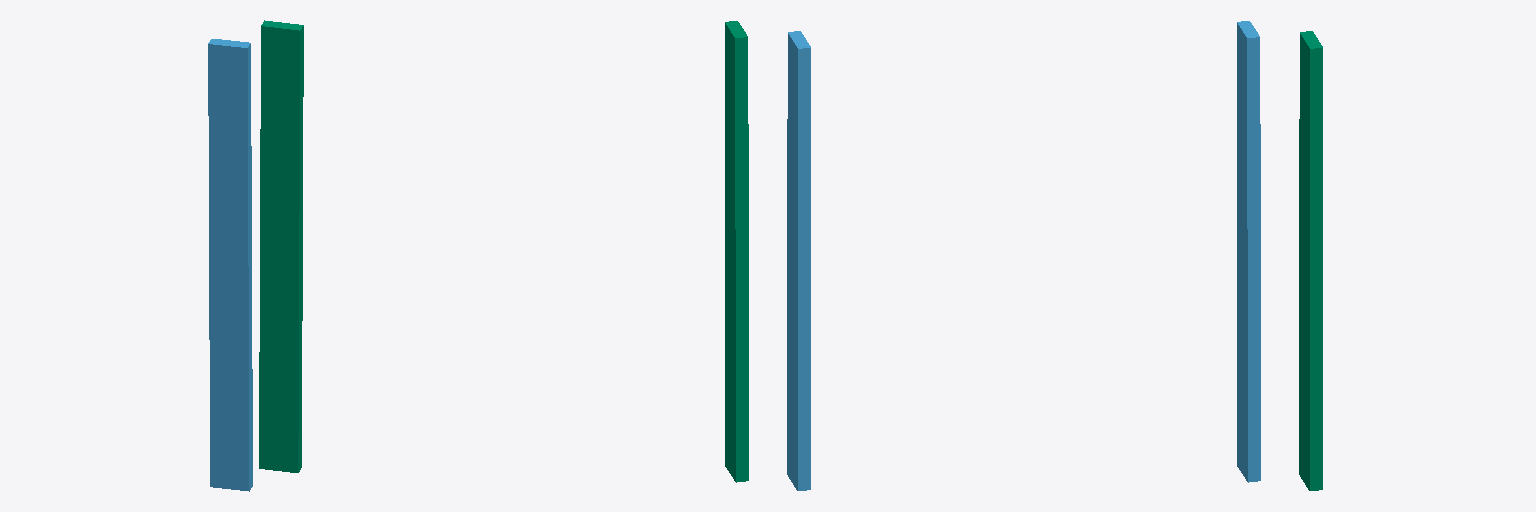
robot.urdf — panda:
<?xml version="1.0" ?>
<robot name="panda" xmlns:xacro="http://www.ros.org/wiki/xacro">
  <link name="panda_link0">
    <visual>
      <geometry>
        <mesh filename="package://franka_description/meshes/visual/link0.dae"/>
      </geometry>
    </visual>
    <collision>
      <geometry>
        <mesh filename="package://franka_description/meshes/collision/link0.obj"/>
      </geometry>
    </collision>
  </link>
  <link name="panda_link1">
    <visual>
      <geometry>
        <mesh filename="package://franka_description/meshes/visual/link1.dae"/>
      </geometry>
    </visual>
    <collision>
      <geometry>
        <mesh filename="package://franka_description/meshes/collision/link1.obj"/>
      </geometry>
    </collision>
    <inertial>
        <origin xyz="0.00387 0.00208 0.00000" rpy="0 0 0" />
        <mass value="4.97068" />
        <inertia ixx="0.70337" ixy="-0.00014" ixz="0.00677" iyy="0.70661" iyz="0.01917" izz="0.00912" />
    </inertial>
  </link>
  <joint name="panda_joint1" type="revolute">
    <safety_controller k_position="100.0" k_velocity="40.0" soft_lower_limit="-2.8973" soft_upper_limit="2.8973"/>
    <origin rpy="0 0 0" xyz="0 0 0.333"/>
    <parent link="panda_link0"/>
    <child link="panda_link1"/>
    <axis xyz="0 0 1"/>
    <dynamics damping="10.0"/>
    <limit effort="87" lower="-2.9671" upper="2.9671" velocity="2.1750"/>
  </joint>
  <link name="panda_link2">
    <visual>
      <geometry>
        <mesh filename="package://franka_description/meshes/visual/link2.dae"/>
      </geometry>
    </visual>
    <collision>
      <geometry>
        <mesh filename="package://franka_description/meshes/collision/link2.obj"/>
      </geometry>
    </collision>
    <inertial>
        <origin xyz="-0.00314 -0.02872 0.00350" rpy="0 0 0" />
        <mass value="0.64693" />
        <inertia ixx="0.00796" ixy="-0.00392" ixz="0.01025" iyy="0.02811" iyz="0.00070" izz="0.02599" />
    </inertial>
  </link>
  <joint name="panda_joint2" type="revolute">
    <safety_controller k_position="100.0" k_velocity="40.0" soft_lower_limit="-1.7628" soft_upper_limit="1.7628"/>
    <origin rpy="-1.57079632679 0 0" xyz="0 0 0"/>
    <parent link="panda_link1"/>
    <child link="panda_link2"/>
    <axis xyz="0 0 1"/>
    <dynamics damping="10.0"/>
    <limit effort="87" lower="-1.8326" upper="1.8326" velocity="2.1750"/>
  </joint>
  <link name="panda_link3">
    <visual>
      <geometry>
        <mesh filename="package://franka_description/meshes/visual/link3.dae"/>
      </geometry>
    </visual>
    <collision>
      <geometry>
        <mesh filename="package://franka_description/meshes/collision/link3.obj"/>
      </geometry>
    </collision>
    <inertial>
        <origin xyz="0.02752 0.03925 -0.06650" rpy="0 0 0" />
        <mass value="3.22860" />
        <inertia ixx="0.03724" ixy="-0.00476" ixz="-0.01140" iyy="0.03615" iyz="-0.01281" izz="0.01083" />
    </inertial>
  </link>
  <joint name="panda_joint3" type="revolute">
    <safety_controller k_position="100.0" k_velocity="40.0" soft_lower_limit="-2.8973" soft_upper_limit="2.8973"/>
    <origin rpy="1.57079632679 0 0" xyz="0 -0.316 0"/>
    <parent link="panda_link2"/>
    <child link="panda_link3"/>
    <axis xyz="0 0 1"/>
    <dynamics damping="10.0"/>
    <limit effort="87" lower="-2.9671" upper="2.9671" velocity="2.1750"/>
  </joint>
  <link name="panda_link4">
    <visual>
      <geometry>
        <mesh filename="package://franka_description/meshes/visual/link4.dae"/>
      </geometry>
    </visual>
    <collision>
      <geometry>
        <mesh filename="package://franka_description/meshes/collision/link4.obj"/>
      </geometry>
    </collision>
    <inertial>
        <origin xyz="-0.05317 0.10442 0.02745" rpy="0 0 0" />
        <mass value="3.58789" />
        <inertia ixx="0.02585" ixy="0.00780" ixz="-0.00133" iyy="0.01955" iyz="0.00864" izz="0.02832" />
    </inertial>
  </link>
  <joint name="panda_joint4" type="revolute">
    <safety_controller k_position="100.0" k_velocity="40.0" soft_lower_limit="-3.0718" soft_upper_limit="-0.0698"/>
    <origin rpy="1.57079632679 0 0" xyz="0.0825 0 0"/>
    <parent link="panda_link3"/>
    <child link="panda_link4"/>
    <axis xyz="0 0 1"/>
    <!--
    <dynamics damping="10.0"/>
    <limit effort="87" lower="-3.1416" upper="0.0" velocity="2.1750"/>
    something is weird with this joint limit config
    <dynamics damping="10.0"/>
    <limit effort="87" lower="-0.01" upper="0.01" velocity="2.1750"/>
    -->
    <dynamics damping="10.0"/>
    <limit effort="87" lower="-3.0" upper="0.087" velocity="2.1750"/> 
  </joint>
  <link name="panda_link5">
    <visual>
      <geometry>
        <mesh filename="package://franka_description/meshes/visual/link5.dae"/>
      </geometry>
    </visual>
    <collision>
      <geometry>
        <mesh filename="package://franka_description/meshes/collision/link5.obj"/>
      </geometry>
    </collision>
    <inertial>
        <origin xyz="-0.01195 0.04106 -0.03844" rpy="0 0 0" />
        <mass value="1.22595" />
        <inertia ixx="0.03555" ixy="-0.00212" ixz="-0.00404" iyy="0.02947" iyz="0.00023" izz="0.00863" />
    </inertial>
  </link>
  <joint name="panda_joint5" type="revolute">
    <safety_controller k_position="100.0" k_velocity="40.0" soft_lower_limit="-2.8973" soft_upper_limit="2.8973"/>
    <origin rpy="-1.57079632679 0 0" xyz="-0.0825 0.384 0"/>
    <parent link="panda_link4"/>
    <child link="panda_link5"/>
    <axis xyz="0 0 1"/>
    <dynamics damping="10.0"/>
    <limit effort="12" lower="-2.9671" upper="2.9671" velocity="2.6100"/>
  </joint>
  <link name="panda_link6">
    <visual>
      <geometry>
        <mesh filename="package://franka_description/meshes/visual/link6.dae"/>
      </geometry>   
    </visual>
    <collision>
      <geometry>
        <mesh filename="package://franka_description/meshes/collision/link6.obj"/>
      </geometry>
    </collision>
    <inertial>
        <origin xyz="0.06015 -0.01412 -0.01052" rpy="0 0 0" />
        <mass value="1.66656" />
        <inertia ixx="0.00196" ixy="0.00011" ixz="-0.00116" iyy="0.00435" iyz="0.00034" izz="0.00543" />
    </inertial>
  </link>
  <joint name="panda_joint6" type="revolute">
    <safety_controller k_position="100.0" k_velocity="40.0" soft_lower_limit="-0.0175" soft_upper_limit="3.7525"/>
    <origin rpy="1.57079632679 0 0" xyz="0 0 0"/>
    <parent link="panda_link5"/>
    <child link="panda_link6"/>
    <axis xyz="0 0 1"/>
    <!--
    <dynamics damping="10.0"/>
    <limit effort="12" lower="-0.0873" upper="3.8223" velocity="2.6100"/>
    -->
    <dynamics damping="10.0"/>
    <limit effort="12" lower="-0.0873" upper="3.0" velocity="2.6100"/>
  </joint>
  <link name="panda_link7">
    <visual>
      <geometry>
        <mesh filename="package://franka_description/meshes/visual/link7.dae"/>
      </geometry>
    </visual>
    <collision>
      <geometry>
        <mesh filename="package://franka_description/meshes/collision/link7.obj"/>
      </geometry>
    </collision>
    <inertial>
        <origin xyz="0.01052 -0.00425 0.06160" rpy="0 0 0" />
        <mass value="0.73552" />
        <inertia ixx="0.01252" ixy="-0.00043" ixz="-0.00120" iyy="0.01003" iyz="-0.00074" izz="0.00481" />
    </inertial>
  </link>
  <joint name="panda_joint7" type="revolute">
    <safety_controller k_position="100.0" k_velocity="40.0" soft_lower_limit="-2.8973" soft_upper_limit="2.8973"/>
    <origin rpy="1.57079632679 0 0" xyz="0.088 0 0"/>
    <parent link="panda_link6"/>
    <child link="panda_link7"/>
    <axis xyz="0 0 1"/>
    <dynamics damping="10.0"/>
    <limit effort="12" lower="-2.9671" upper="2.9671" velocity="2.6100"/>
  </joint>
  <!--
  <link name="panda_link8"/>
  <joint name="panda_joint8" type="fixed">
    <origin rpy="0 0 0" xyz="0 0 0.107"/>
    <parent link="panda_link7"/>
    <child link="panda_link8"/>
    <axis xyz="0 0 0"/>
  </joint>
  Removing this joint seems to help with some stability things
  -->
  <joint name="panda_hand_joint" type="fixed">
    <!--
    <parent link="panda_link8"/>
    -->
    <parent link="panda_link7"/>
    <child link="panda_hand"/>
    <origin rpy="0 0 -0.785398163397" xyz="0 0 0.107"/>
    <!--
    <origin rpy="0 0 -0.785398163397" xyz="0 0 0"/>
    -->
  </joint>
  <link name="panda_hand">
    <visual>
      <geometry>
        <mesh filename="package://franka_description/meshes/visual/hand.dae"/>
      </geometry>
    </visual>
    <collision>
      <geometry>
        <mesh filename="package://franka_description/meshes/collision/hand.obj"/>
      </geometry>
    </collision>
    <inertial>
        <origin xyz="-0.01 0 0.03" rpy="0 0 0" />
        <mass value="0.73" />
        <inertia ixx="0.001" ixy="0" ixz="0" iyy="0.0025" iyz="0" izz="0.0017" />
    </inertial>
  </link>
  <link name="panda_leftfinger">
    <visual>
      <origin rpy="0 -1.466592654 1.57079632679" xyz="-0.009525 -0.03 0.0"/>
      <geometry>
        <mesh filename="../meshes/visual/tong_v3.obj"/>
      </geometry>
    </visual>
    <collision>
      <origin rpy="1.57079632679 -1.466592654 1.57079632679" xyz="-0.009525 -0.03 0.0"/>
      <geometry>
        <mesh filename="../meshes/collision/tong_v3.obj"/>
      </geometry>
    </collision>
  </link>
  <link name="panda_rightfinger">
    <visual>
      <origin rpy="3.14159265359 -1.675 1.57079632679" xyz="0.009525 0.03 0.0"/>
      <geometry>
        <mesh filename="../meshes/visual/tong_v3.obj"/>
      </geometry>
    </visual>
    <collision>
      <origin rpy="1.57079632679 -1.675 1.57079632679" xyz="-0.009525 0.035 0.0"/>
      <geometry>
        <mesh filename="../meshes/collision/tong_v3.obj"/>
      </geometry>
    </collision>
  </link>
  <joint name="panda_finger_joint1" type="prismatic">
    <parent link="panda_hand"/>
    <child link="panda_leftfinger"/>
    <origin rpy="0.1 0.0 0" xyz="0 0.03 0.0584"/>
    <axis xyz="0 1 0"/>
    <dynamics damping="30.0"/>
    <limit effort="20" lower="0.0" upper="0.04" velocity="0.2"/>
  </joint>
  <joint name="panda_finger_joint2" type="prismatic">
    <parent link="panda_hand"/>
    <child link="panda_rightfinger"/>
    <origin rpy="-0.1 0 0" xyz="0 -0.03 0.0584"/>
    <axis xyz="0 -1 0"/>
    <dynamics damping="30.0"/>
    <limit effort="20" lower="0.0" upper="0.04" velocity="0.2"/>
    <mimic joint="panda_finger_joint1"/>
  </joint>
</robot>

--- Facts derived from the render (not from the file) ---
Views: 3 orthographic renders of the robot side by side, from view 1: azimuth 30°, elevation 25°; view 2: azimuth 150°, elevation 25°; view 3: azimuth 330°, elevation 25°.
Model panda with 11 links and 10 joints (7 revolute, 2 prismatic, 1 fixed), rooted at panda_link0, posed every joint at zero.
Links seen in each view (by area): view 1: panda_leftfinger, panda_rightfinger; view 2: panda_rightfinger, panda_leftfinger; view 3: panda_leftfinger, panda_rightfinger.
Link boxes in pixels (<box>): panda_leftfinger: <box>208,39,252,491</box>; panda_rightfinger: <box>259,20,303,472</box>; panda_rightfinger: <box>725,21,748,482</box>; panda_leftfinger: <box>787,31,810,490</box>; panda_leftfinger: <box>1237,21,1260,482</box>; panda_rightfinger: <box>1299,31,1322,490</box>.
Size in the robot's own frame: 0.0492 by 0.024 by 0.2287 metres.
2 mesh visuals loaded from 10 distinct referenced files (1 OBJ); not drawn: 9 (reference not matched to a file when rendering).